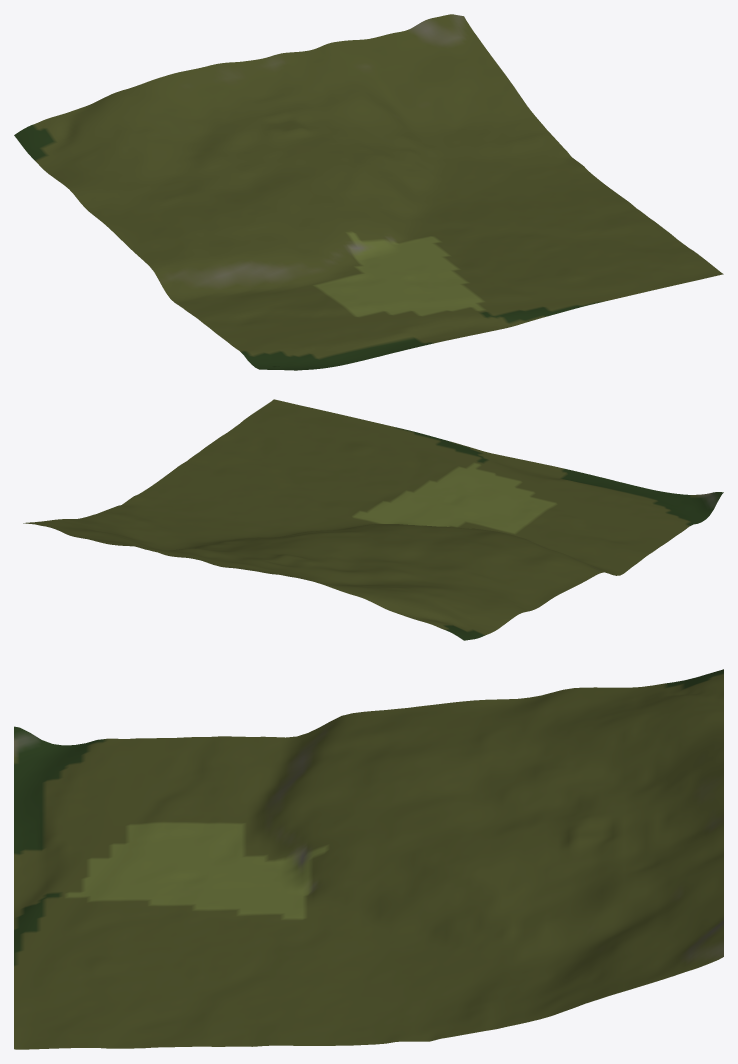
File: terrain_13_-11.glb
The picture shows the model from 3 angles, top to bottom: view 1: azimuth 30°, elevation 25°; view 2: azimuth 150°, elevation 25°; view 3: azimuth 270°, elevation 25°; orthographic projection. The views are drawn at different scales.
Visible parts, largest first — view 1: terrain_13_-11; view 2: terrain_13_-11; view 3: terrain_13_-11.
Boxes of the visible parts, x1,y1,x2,y2 form: terrain_13_-11: (14,14,723,370); terrain_13_-11: (23,399,723,640); terrain_13_-11: (14,669,723,1049).
Bounding box in the file's own units: 256 × 44.71 × 256.
